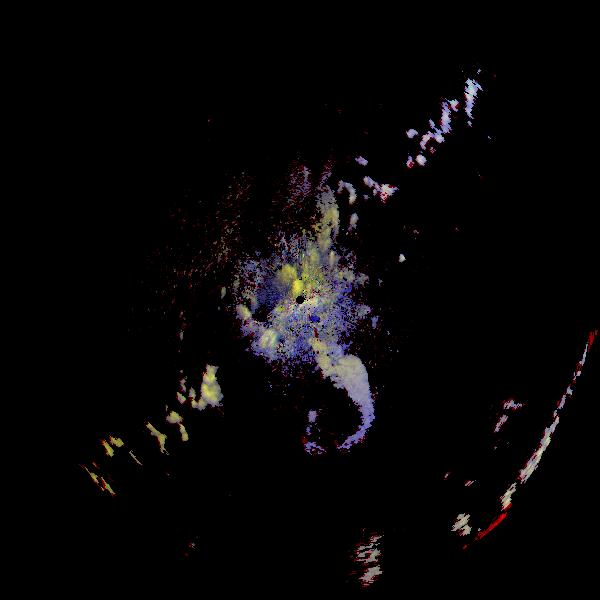roost: (200, 108, 365, 273), (244, 329, 394, 479)
